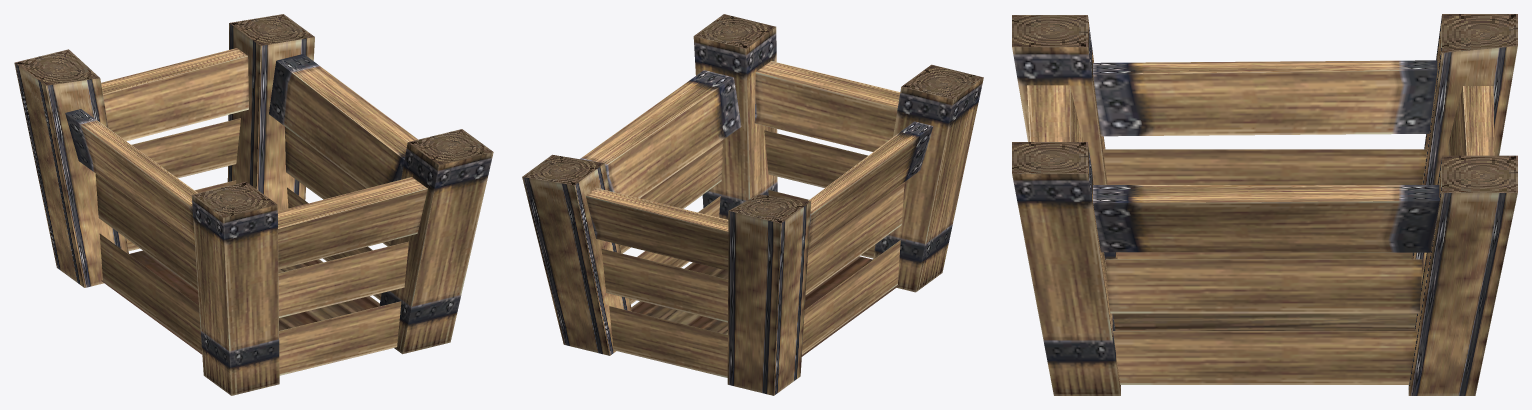
The model's file is crate03.obj.
The picture shows the model from 3 angles, left to right: view 1: azimuth 30°, elevation 25°; view 2: azimuth 150°, elevation 25°; view 3: azimuth 270°, elevation 25°; orthographic projection. The views are drawn at different scales.
Parts seen in each view (by area): view 1: Geoset1, Geoset2, Geoset0; view 2: Geoset1, Geoset2, Geoset0; view 3: Geoset1, Geoset2, Geoset0.
Part boxes in pixels (left/top/right/bottom): Geoset1: left=14, top=23, right=493, bottom=395; Geoset2: left=15, top=14, right=492, bottom=217; Geoset0: left=101, top=250, right=379, bottom=354; Geoset1: left=522, top=27, right=983, bottom=395; Geoset2: left=522, top=14, right=983, bottom=223; Geoset0: left=631, top=256, right=899, bottom=356; Geoset1: left=1012, top=16, right=1517, bottom=395; Geoset2: left=1012, top=14, right=1517, bottom=192; Geoset0: left=1113, top=313, right=1416, bottom=330.
Size of the model in its own units: 1.1 by 0.7719 by 1.48.
Materials: 3 (3 with a texture image).
